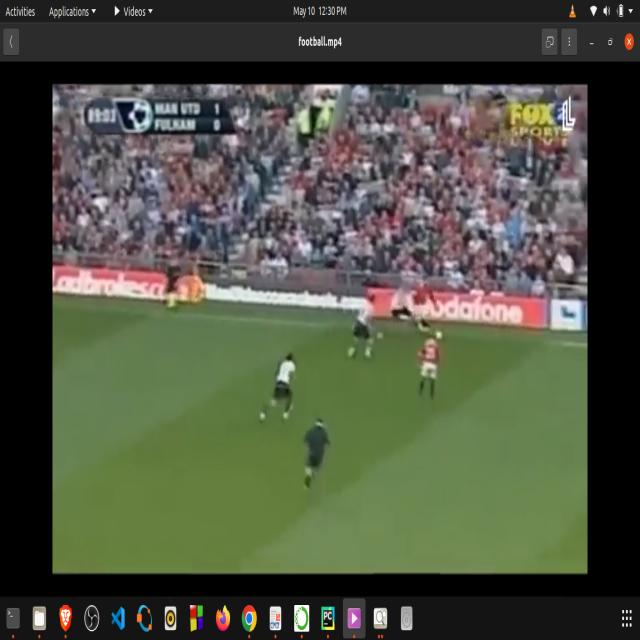Ball: (376, 326, 384, 344)
Refree: (304, 412, 332, 495)
football-players: (254, 345, 303, 423), (345, 292, 376, 364), (417, 330, 440, 404), (418, 272, 438, 336)
